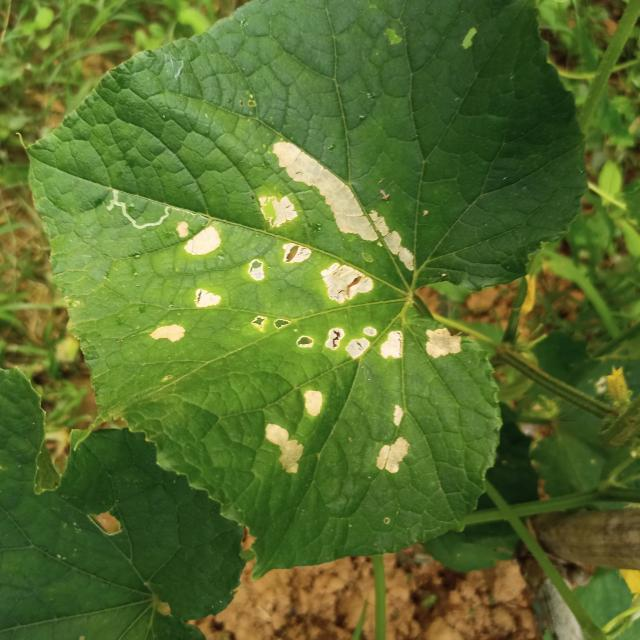disease_cucumber: (246, 138, 417, 310), (249, 312, 465, 366), (151, 221, 224, 343), (257, 382, 328, 478), (372, 402, 413, 483)
